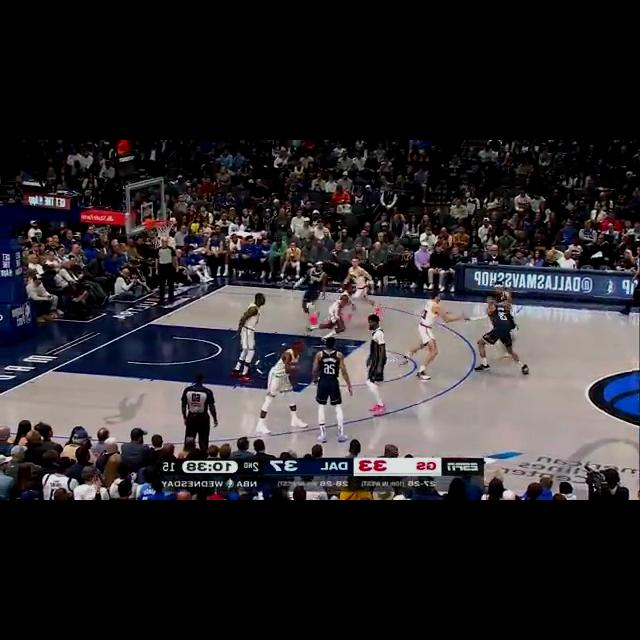Team-1-Player: (467, 296, 533, 378), (312, 335, 356, 443), (290, 260, 330, 330), (364, 314, 388, 416)
Team-2-Player: (394, 288, 466, 379), (253, 337, 309, 437), (224, 290, 270, 382), (312, 284, 360, 342), (343, 255, 379, 312)
